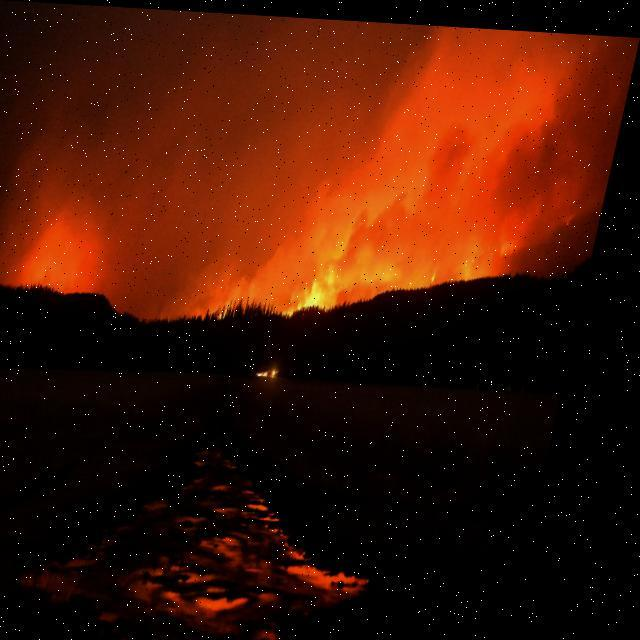Fire: (295, 190, 528, 316)
